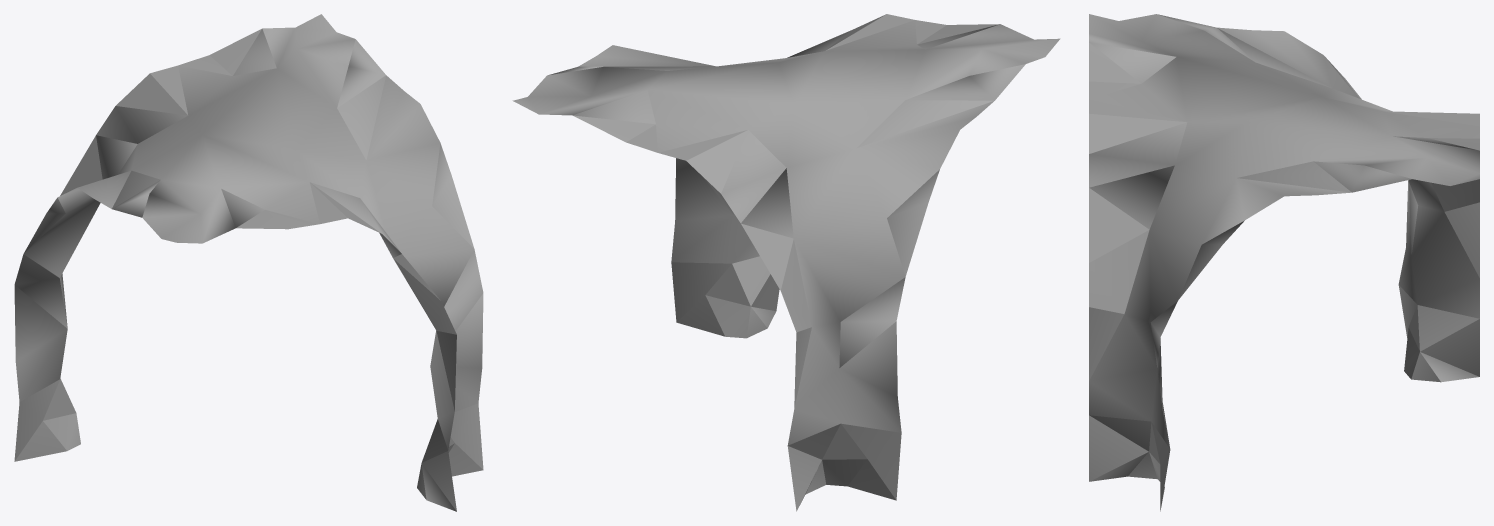
The model's file is RoofWallInnerCorner3.fbx.
The picture shows the model from 3 angles, left to right: view 1: azimuth 30°, elevation 25°; view 2: azimuth 150°, elevation 25°; view 3: azimuth 270°, elevation 25°; orthographic projection. The views are drawn at different scales.
Parts seen in each view (by area): view 1: RoofWallInnerCorner3; view 2: RoofWallInnerCorner3; view 3: RoofWallInnerCorner3.
Boxes of the visible parts, x1,y1,x2,y2 form: RoofWallInnerCorner3: [14, 14, 483, 511]; RoofWallInnerCorner3: [512, 14, 1060, 511]; RoofWallInnerCorner3: [1089, 14, 1479, 511].
Bounding box in the file's own units: 500 × 470 × 500.
